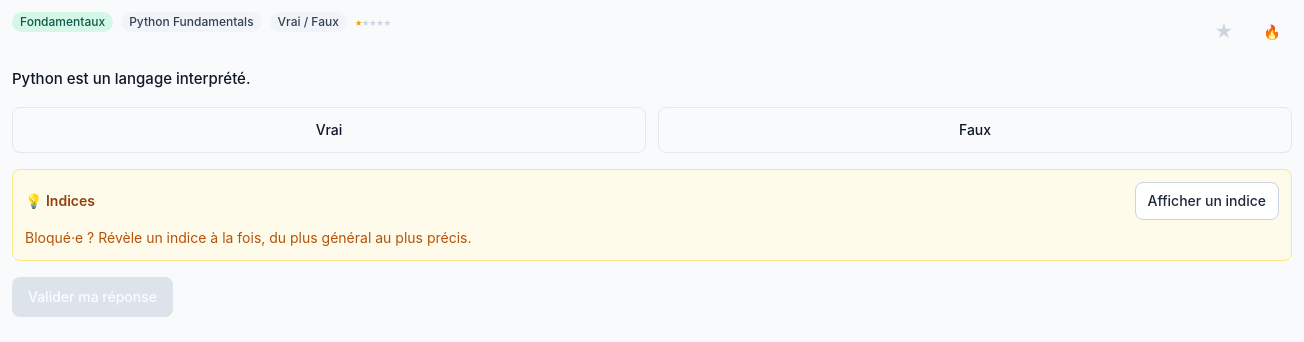
Test case: QuestionPlayer — true/false flow › reveals hints progressively, one click at a time
The image size is (1304, 342).
Expected: the text "Premier indice." is not shown
Click the button "Afficher un indice" at (1207, 200), box [1135,182,1279,220]
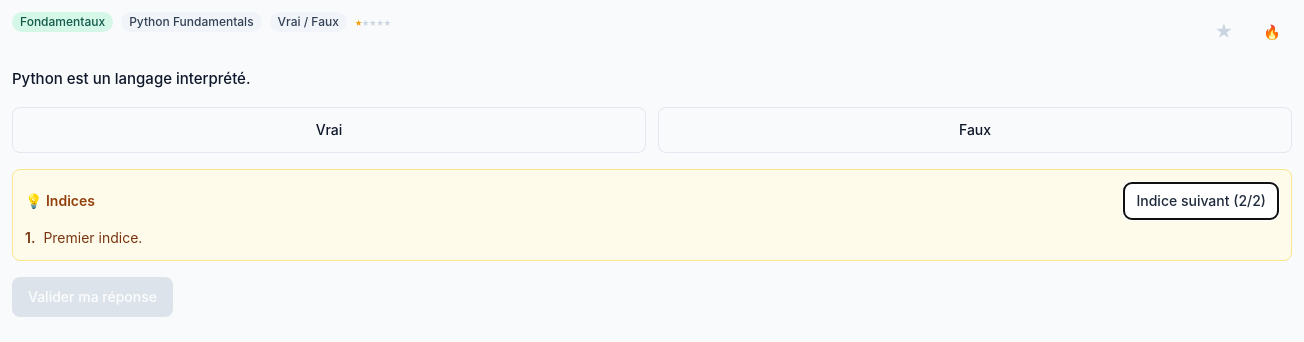
Expected: the text "Deuxième indice, plus précis." is not shown
Expected: the text "Premier indice." is shown, [43,228,142,248]
Click the button "Indice suivant (2/2)" at (1201, 200), box [1124,182,1279,220]
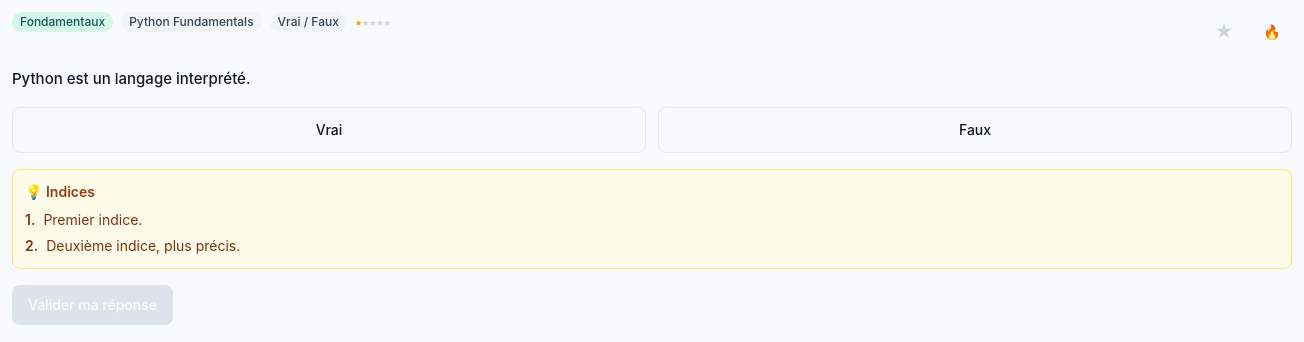
Expected: the text "Deuxième indice, plus précis." is shown, [46,236,240,256]
